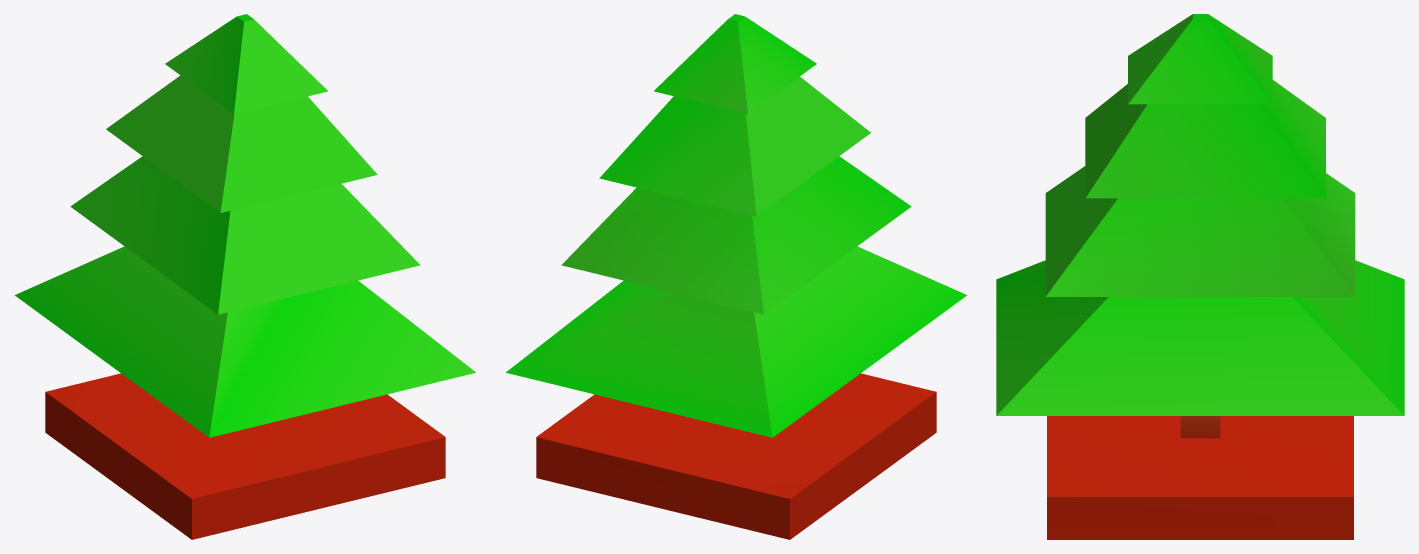
The model's file is tree.fbx.
3 renders of one model, left to right at view 1: azimuth 30°, elevation 25°; view 2: azimuth 150°, elevation 25°; view 3: azimuth 270°, elevation 25°, orthographic. The views are drawn at different scales.
Visible parts, largest first — view 1: Cube; view 2: Cube; view 3: Cube.
Boxes of the visible parts, x1,y1,x2,y2 form: Cube: (14, 14, 475, 539); Cube: (506, 14, 967, 539); Cube: (996, 14, 1404, 539).
Bounding box in the file's own units: 211 × 329 × 266.
